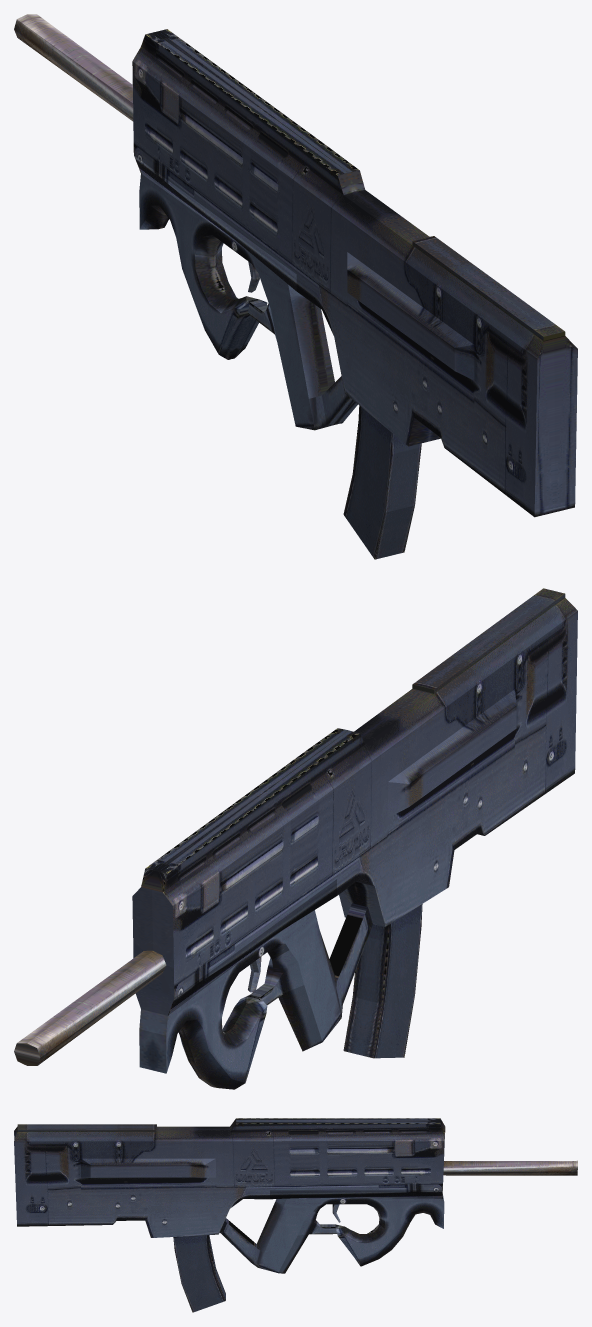
Rendered from ghostbird N.glb.
The picture shows the model from 3 angles, top to bottom: view 1: azimuth 30°, elevation 25°; view 2: azimuth 150°, elevation 25°; view 3: azimuth 270°, elevation 25°; orthographic projection. The views are drawn at different scales.
Parts seen in each view (by area): view 1: Ghostbird; view 2: Ghostbird; view 3: Ghostbird.
Part boxes in pixels (bbox=[...]): Ghostbird: bbox=[14, 14, 577, 559]; Ghostbird: bbox=[14, 588, 577, 1089]; Ghostbird: bbox=[14, 1118, 577, 1312].
Size of the model in its own units: 0.0868 by 0.4735 by 1.29.
1 material, 1 textured.
